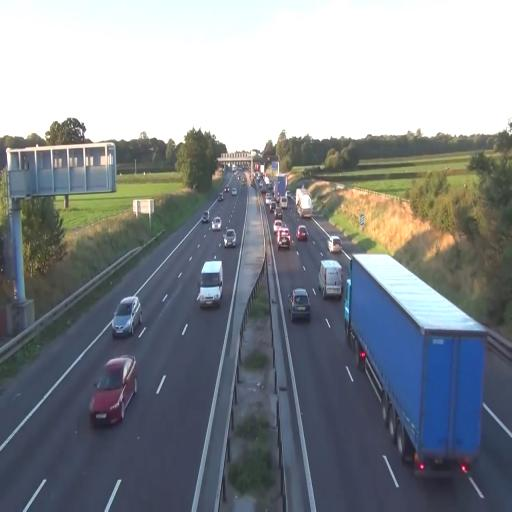vehicle: (346, 251, 486, 475), (88, 355, 138, 427), (196, 258, 224, 308), (112, 296, 144, 338), (319, 257, 342, 301), (319, 259, 343, 301), (290, 288, 310, 323), (296, 190, 313, 220), (274, 224, 292, 250), (222, 225, 238, 249), (296, 225, 308, 244), (212, 216, 222, 230)
